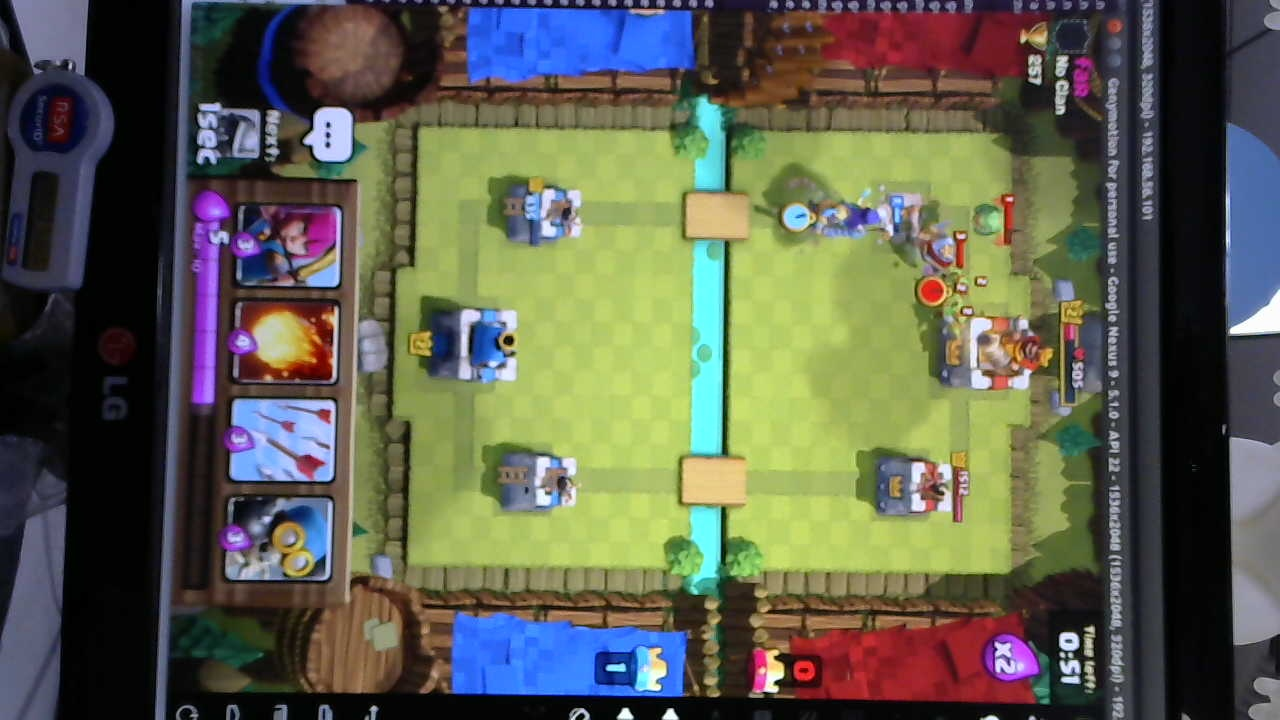arena: (496, 446, 583, 517), (501, 180, 584, 246)
dragon: (966, 193, 1009, 249)
earena: (870, 453, 951, 519)
eking: (940, 309, 1047, 394)
king: (428, 304, 525, 387)
knight: (916, 228, 958, 275)
prince: (806, 199, 861, 239)
speargoblins: (931, 273, 990, 326)
witch: (836, 200, 895, 241)
